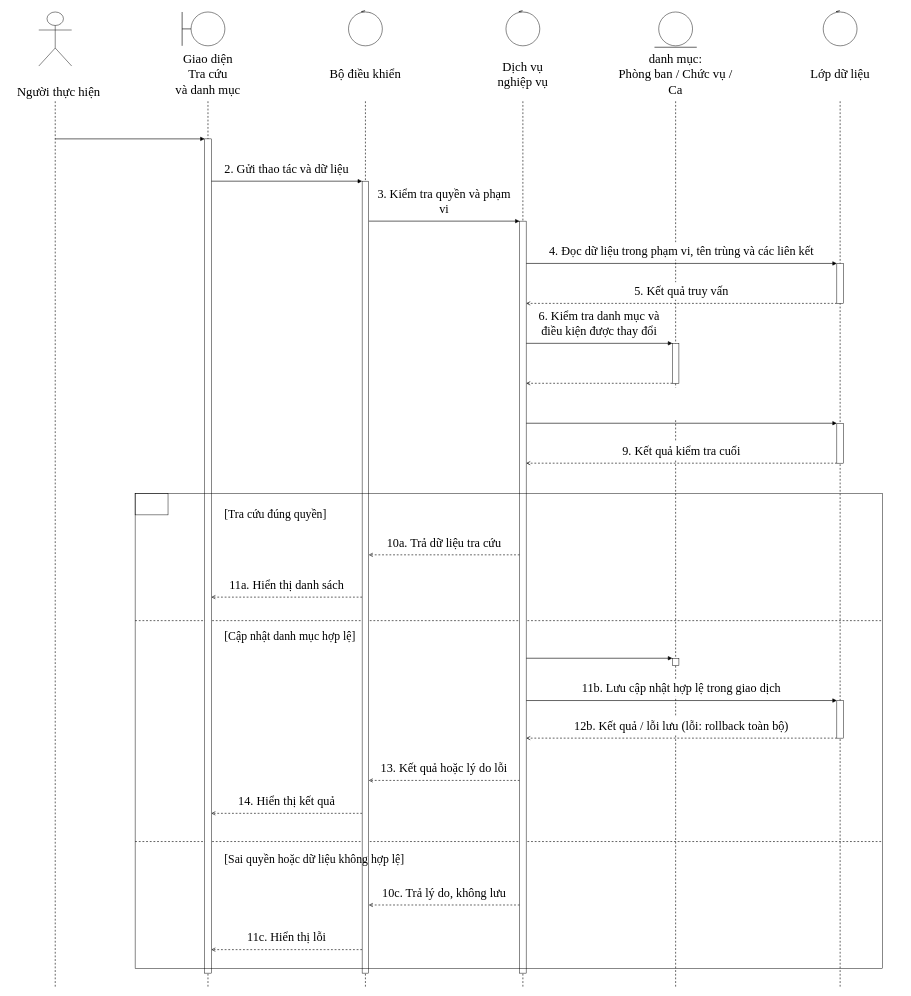
The diagram is 911 pixels wide and 996 high, and some of its shapes have lost their labels. The shapes that lost their labels are listed below. From the top down, each one's box as (x1, y1, x2, y2) in pixels, then its label:
(60, 103, 200, 135): 1. Chọn tra cứu / cập nhật, nhập bộ lọc hoặc dữ liệu
(531, 362, 667, 379): 7. Kết quả kiểm tra
(531, 387, 832, 419): 8. Kiểm tra quyền Nhân sự khi cập nhật; cấm xóa đang dùng
(135, 493, 168, 515): alt
(531, 637, 667, 654): 10b. Cập nhật danh mục
